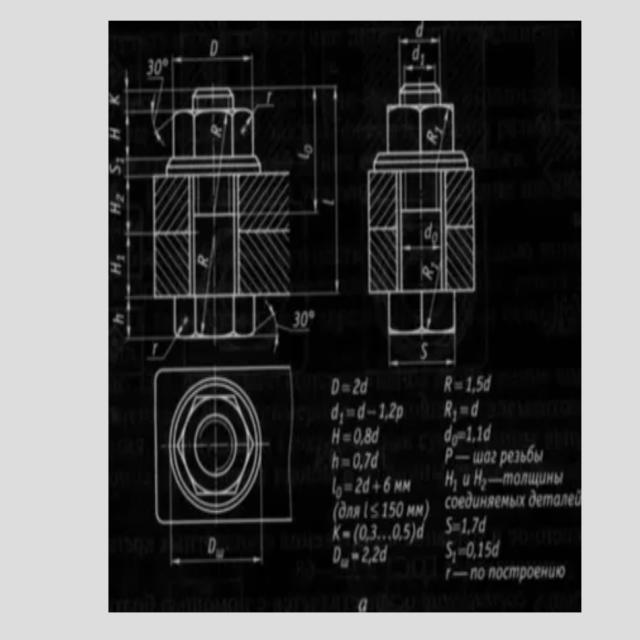marking_line: (292, 84, 339, 298), (168, 526, 264, 565), (290, 85, 318, 216), (257, 299, 311, 352), (170, 56, 255, 86), (122, 110, 169, 160), (388, 335, 458, 368), (122, 71, 173, 114), (123, 300, 174, 341), (396, 39, 442, 83), (122, 172, 153, 237), (122, 234, 152, 299), (151, 114, 172, 148), (146, 337, 174, 361), (403, 64, 437, 82), (437, 108, 449, 149), (219, 115, 228, 155), (426, 294, 435, 330), (200, 300, 208, 332), (404, 244, 439, 251), (255, 101, 273, 113), (240, 117, 251, 136)
numeric: (426, 128, 437, 145), (361, 543, 369, 564), (358, 524, 368, 540), (396, 501, 405, 518), (412, 43, 421, 60), (416, 21, 425, 38), (484, 540, 492, 559), (352, 378, 360, 396), (384, 474, 391, 494), (475, 376, 483, 393), (354, 426, 361, 445), (364, 450, 371, 469), (355, 478, 362, 497), (300, 311, 308, 327), (388, 501, 396, 517), (392, 523, 400, 539), (294, 309, 300, 330), (373, 545, 380, 563), (353, 453, 360, 469), (371, 524, 378, 540), (390, 402, 396, 420), (365, 427, 371, 445), (466, 425, 472, 443), (467, 540, 473, 558), (478, 542, 484, 560), (379, 403, 385, 420), (404, 524, 410, 541), (472, 516, 478, 532), (462, 517, 467, 535), (481, 478, 487, 491), (364, 500, 368, 519), (478, 426, 483, 441), (453, 478, 458, 492), (383, 502, 387, 519), (467, 377, 471, 394), (420, 52, 424, 65)
special_symbol: (308, 309, 316, 320)
